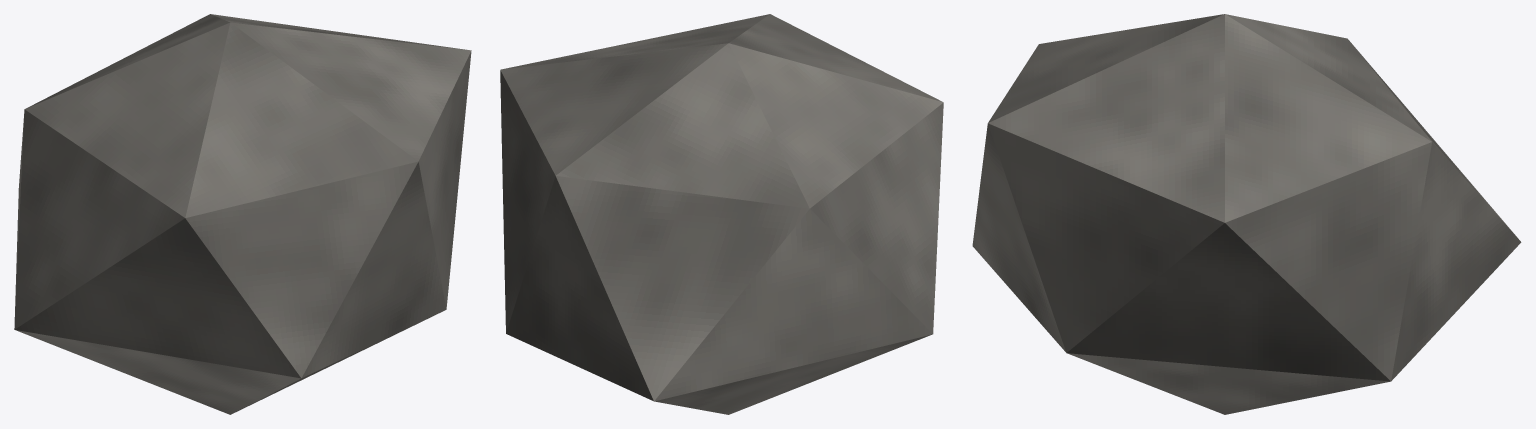
Rendered from kaya.gltf.
3 renders of one model, left to right at view 1: azimuth 30°, elevation 25°; view 2: azimuth 150°, elevation 25°; view 3: azimuth 270°, elevation 25°, orthographic. The views are drawn at different scales.
Visible parts, largest first — view 1: kaya; view 2: kaya; view 3: kaya.
Part boxes in pixels (left/top/right/bottom): kaya: left=14, top=14, right=471, bottom=414; kaya: left=500, top=14, right=943, bottom=414; kaya: left=972, top=14, right=1521, bottom=414.
Size of the model in its own units: 1.13 by 0.9282 by 1.15.
Materials: 1 (1 with a texture image).
